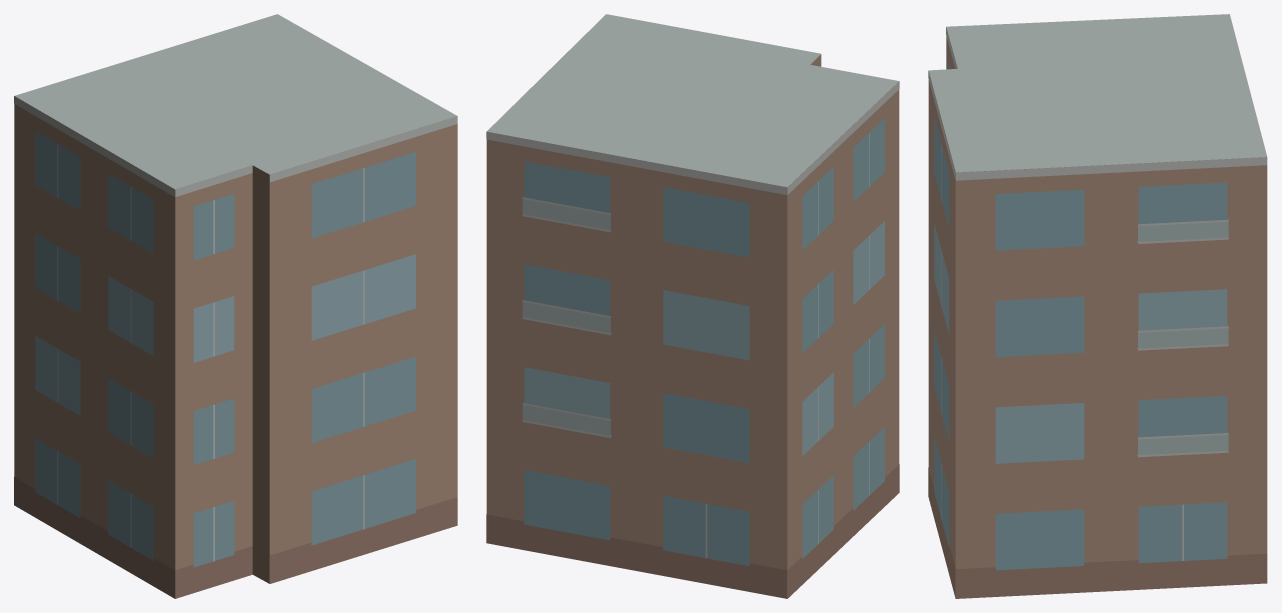
File: survey-upis-32638658.glb
The picture shows the model from 3 angles, left to right: view 1: azimuth 30°, elevation 25°; view 2: azimuth 150°, elevation 25°; view 3: azimuth 270°, elevation 25°; orthographic projection. The views are drawn at different scales.
Visible parts, largest first — view 1: survey-upis-32638658.tmp; view 2: survey-upis-32638658.tmp; view 3: survey-upis-32638658.tmp.
Part boxes in pixels (x1=…): survey-upis-32638658.tmp: x1=14, y1=14, x2=457, y2=598; survey-upis-32638658.tmp: x1=486, y1=14, x2=899, y2=598; survey-upis-32638658.tmp: x1=928, y1=14, x2=1267, y2=598.
Size of the model in its own units: 10.21 by 12.8 by 9.23.
